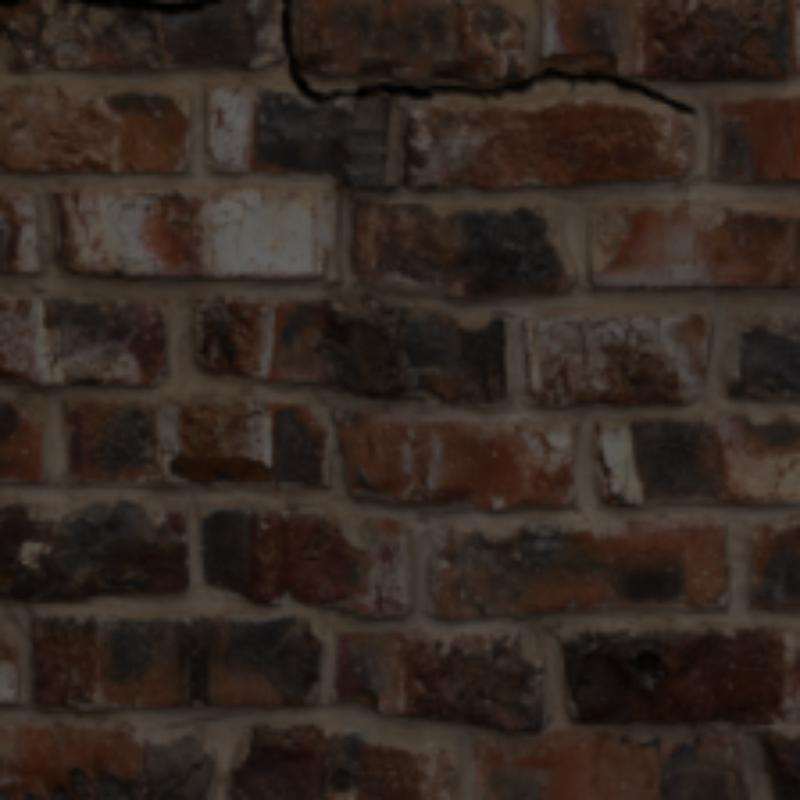pothole: (282, 0, 693, 111), (75, 0, 218, 11)
